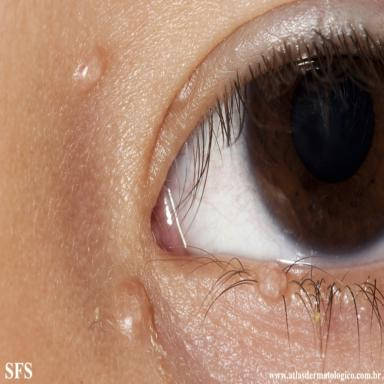Molluscum-Contagiosum: (115, 279, 152, 340), (73, 48, 107, 93), (258, 262, 287, 299)
